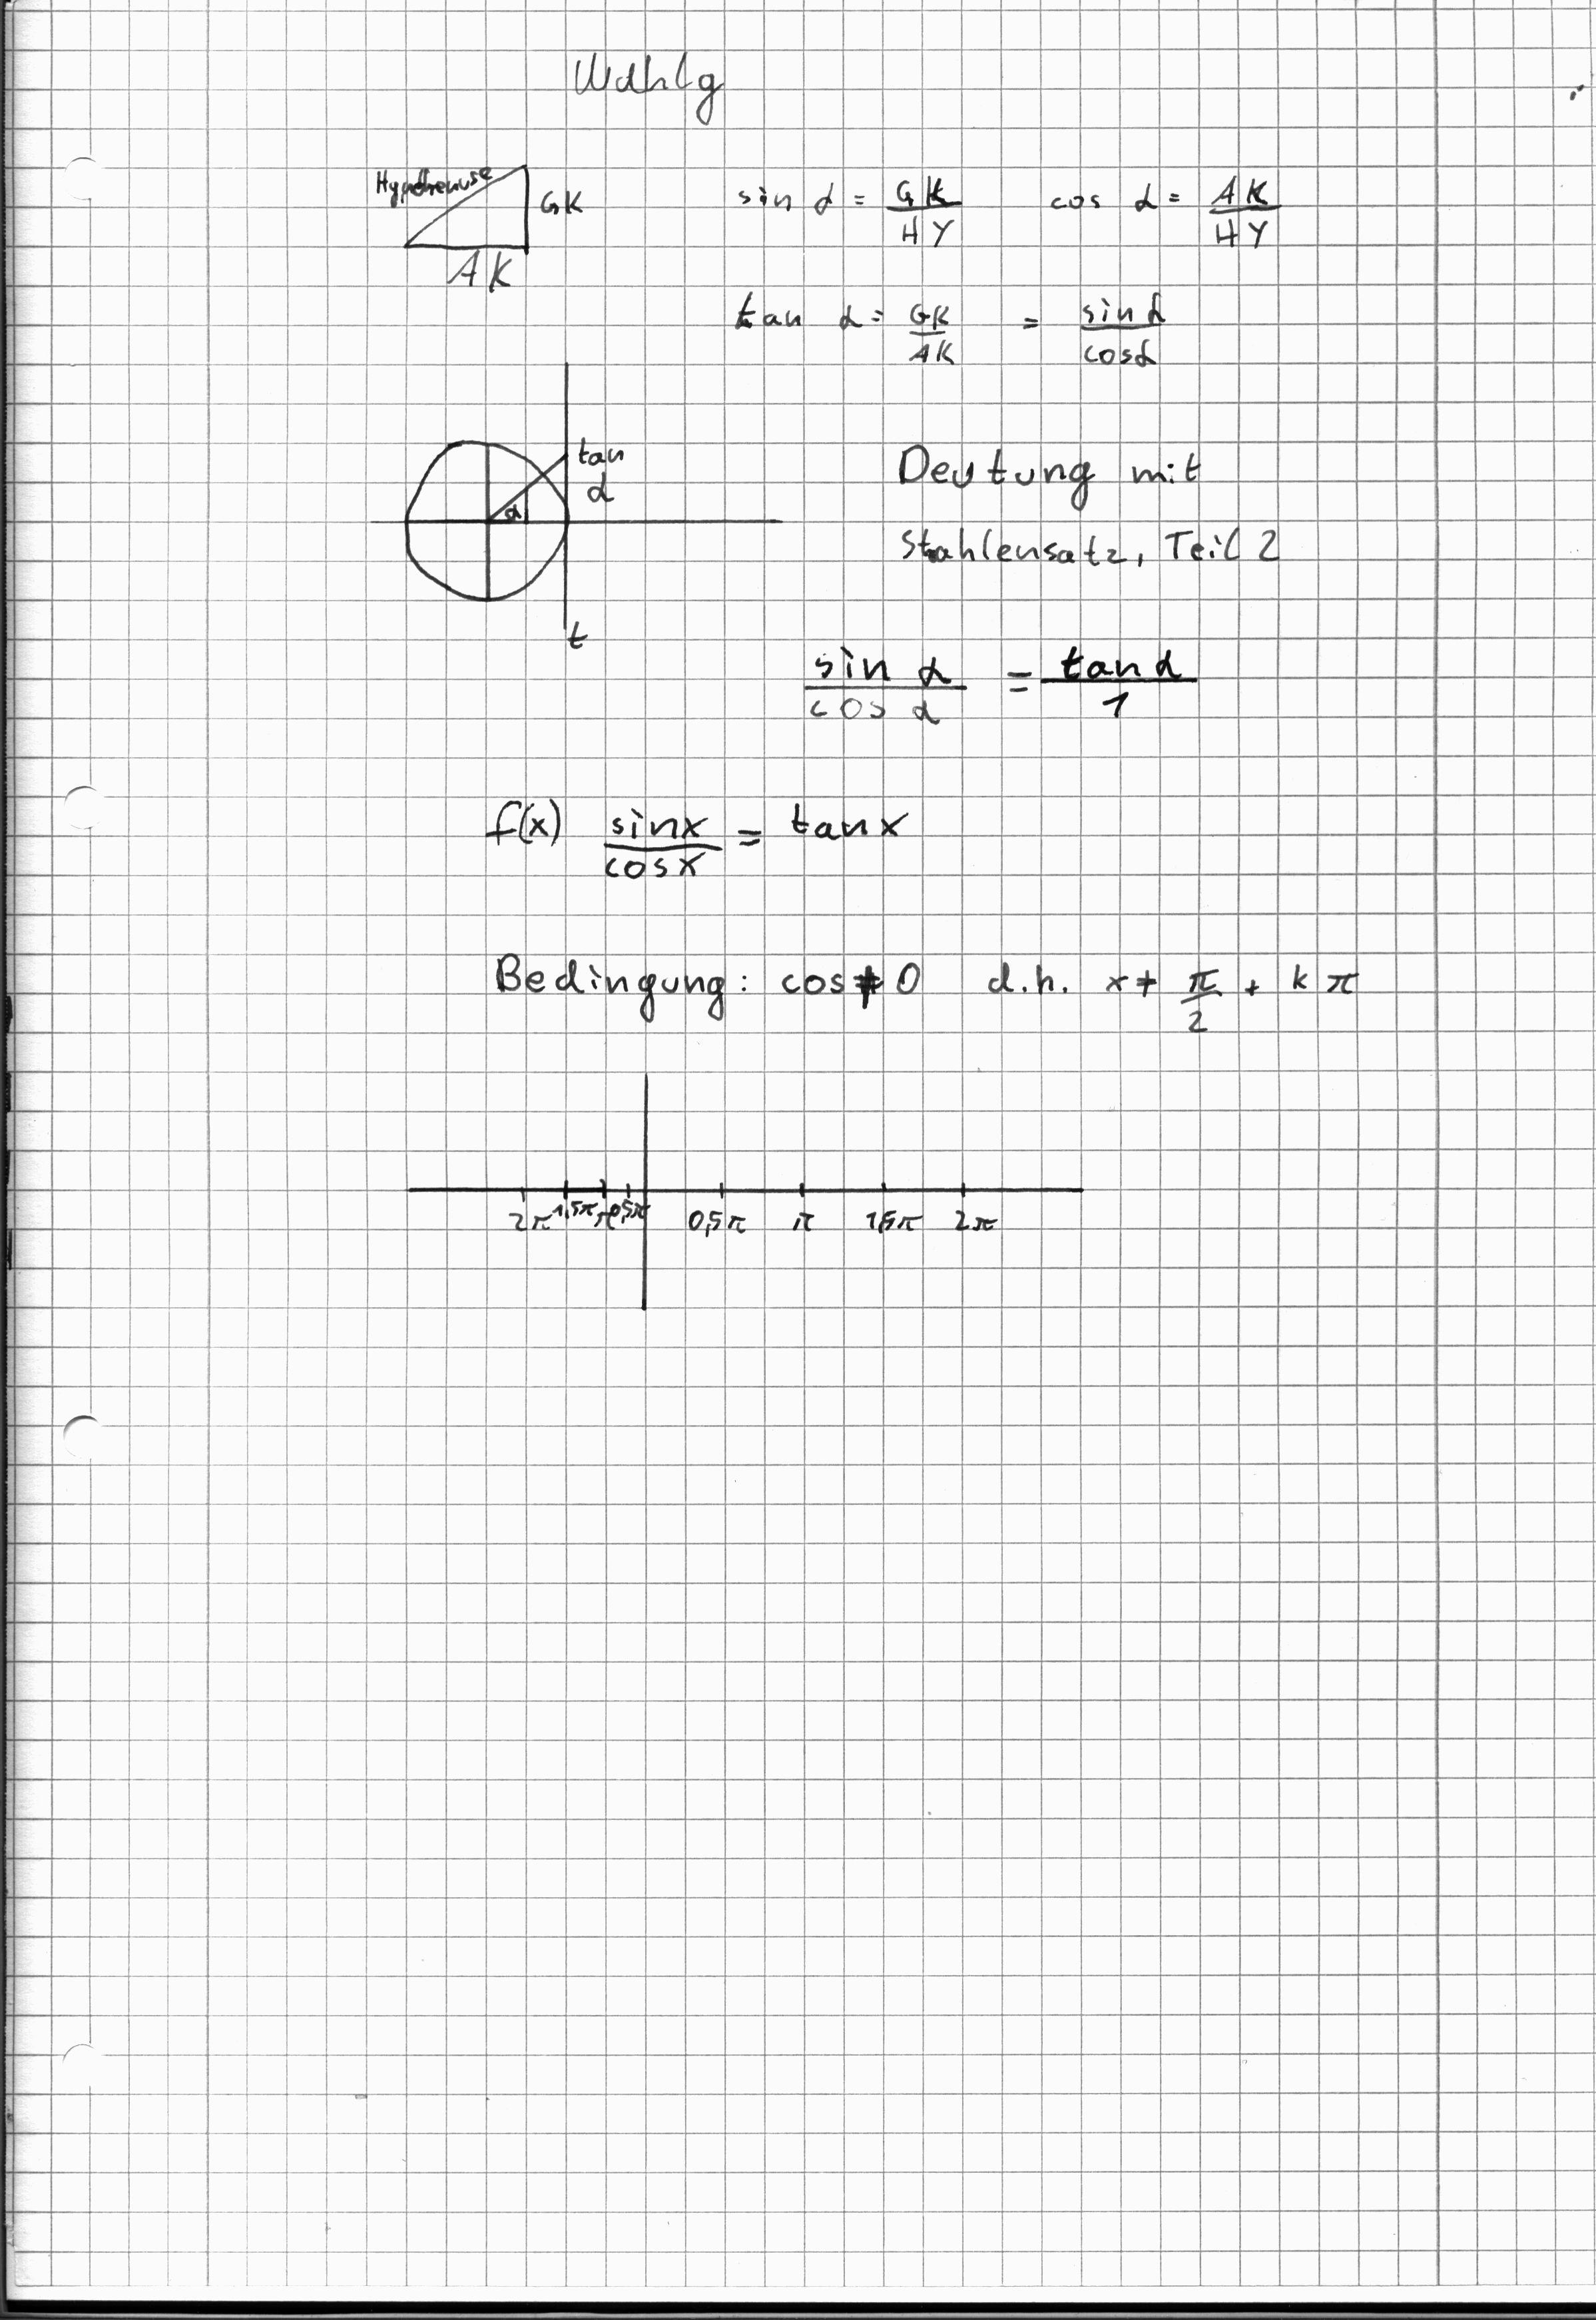word: (471, 926, 1372, 1041), (876, 421, 1312, 591), (460, 762, 931, 900), (721, 264, 1177, 388), (792, 626, 1214, 740), (713, 145, 977, 261), (1040, 153, 1284, 264), (553, 43, 750, 130)
